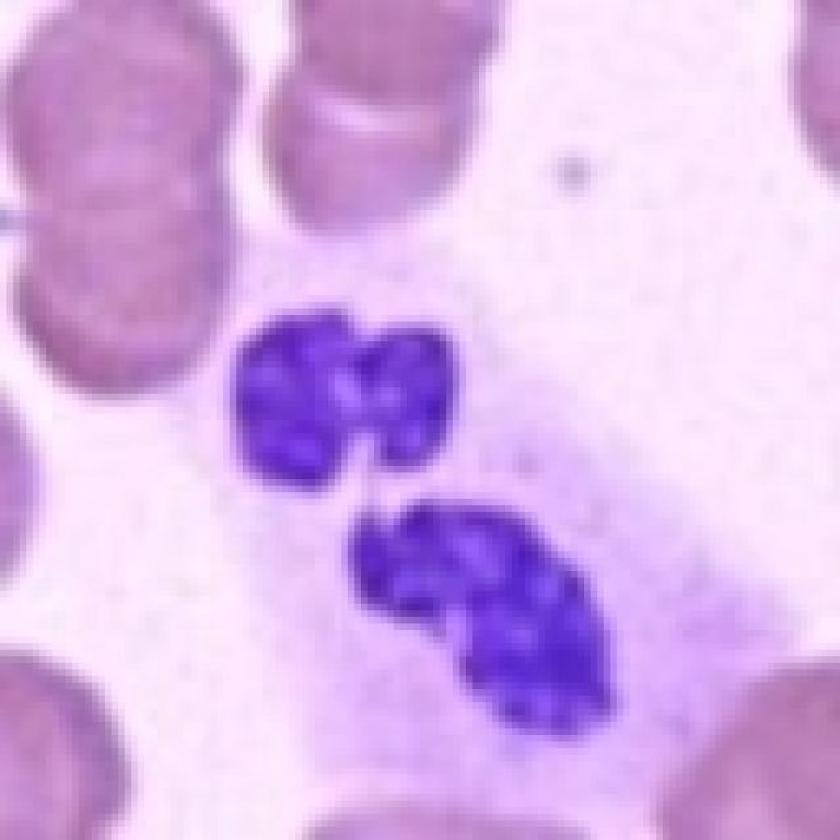neutrophil: (165, 257, 796, 840)
